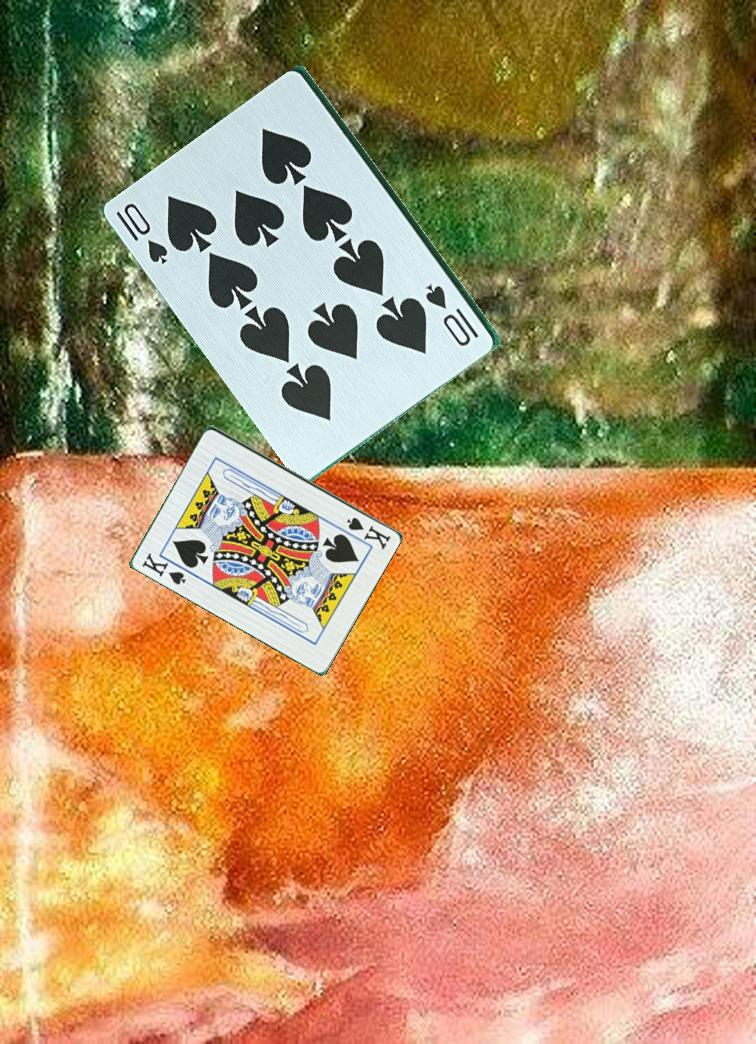ks: (139, 546, 189, 588), (343, 513, 394, 552)
ts: (422, 280, 482, 349), (113, 199, 172, 267)
